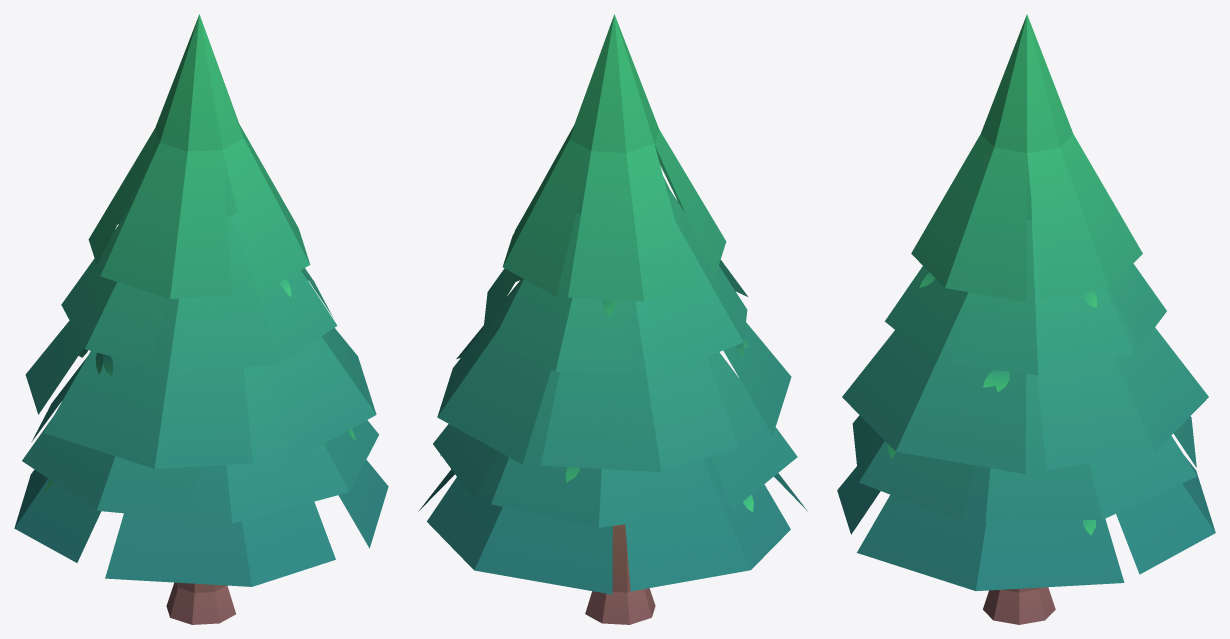
Rendered from albero6.glb.
3 views of the same model, side by side, from view 1: azimuth 30°, elevation 25°; view 2: azimuth 150°, elevation 25°; view 3: azimuth 270°, elevation 25° (orthographic).
Bounding box in the file's own units: 91.94 × 161 × 92.53.
Materials: 1 (1 with a texture image).
